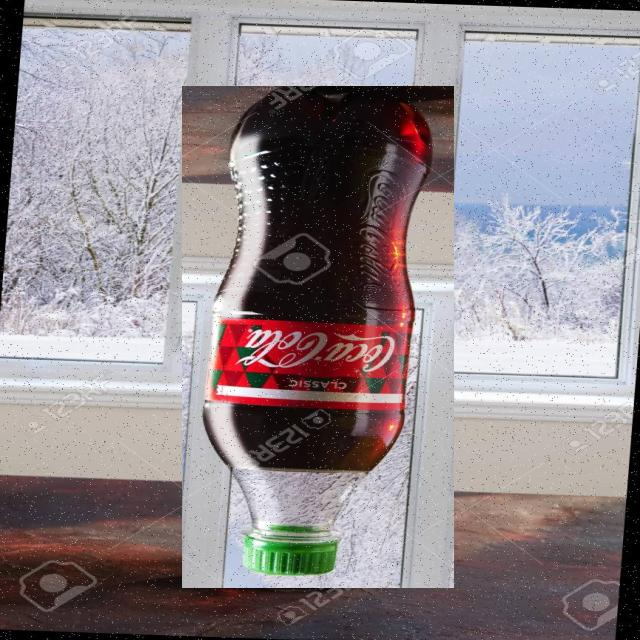coca-cola: (182, 86, 454, 588)
